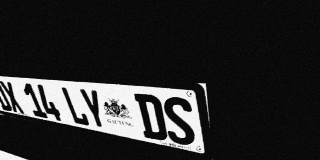1: (20, 83, 48, 118)
4: (34, 84, 63, 121)
D: (134, 93, 168, 142), (0, 80, 14, 112)
L: (60, 86, 91, 127)
S: (161, 96, 197, 147)
X: (0, 81, 25, 114)
Y: (78, 88, 110, 130)
